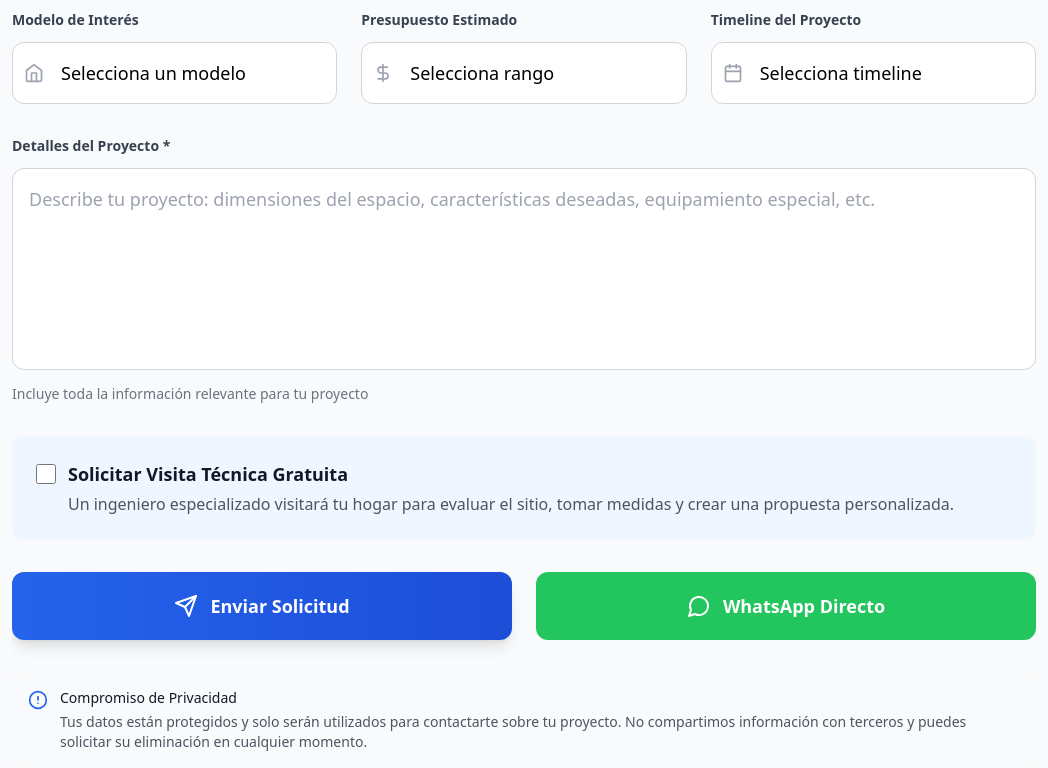
Test: ContactForm - Critical Component Tests › Form Validation › validates required fields on submission
(page scrolled)
Click the button "Enviar Solicitud".
click(262, 606)  # box [12, 572, 512, 640]
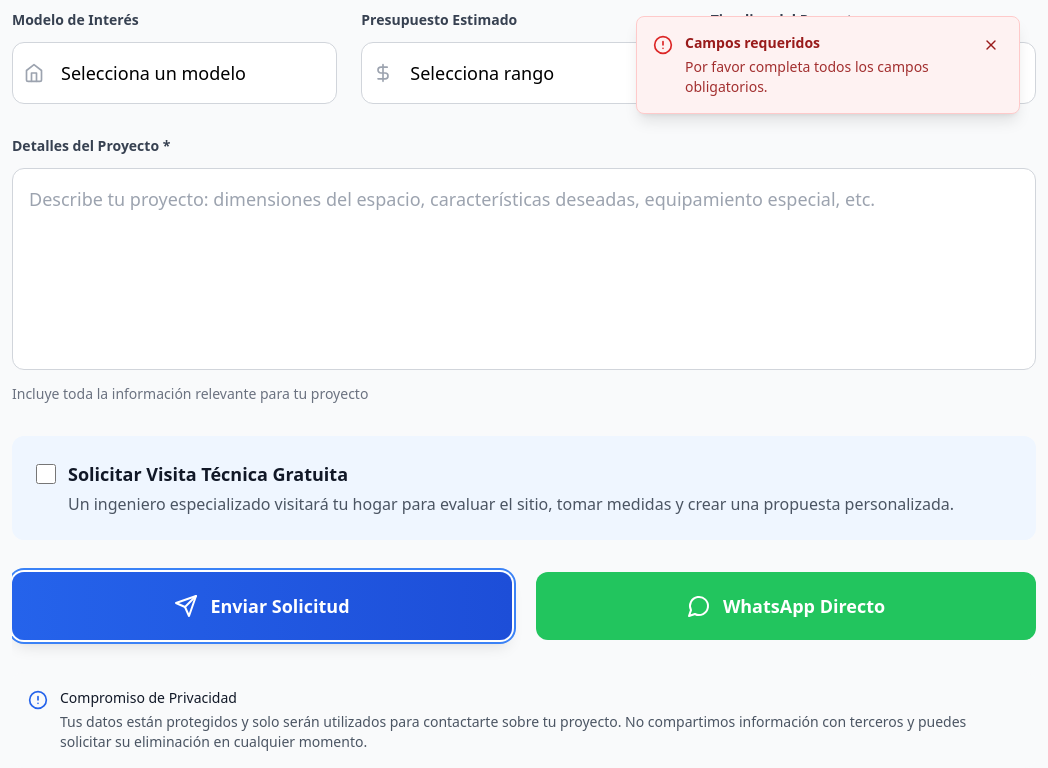
Expected: the text "Por favor completa todos los campos obligatorios." is shown, [685, 57, 967, 97]
